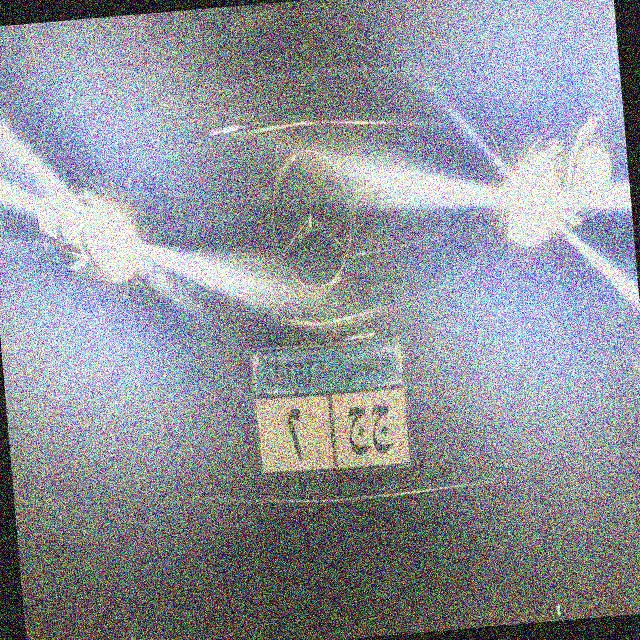License Plate: (245, 326, 417, 485)
